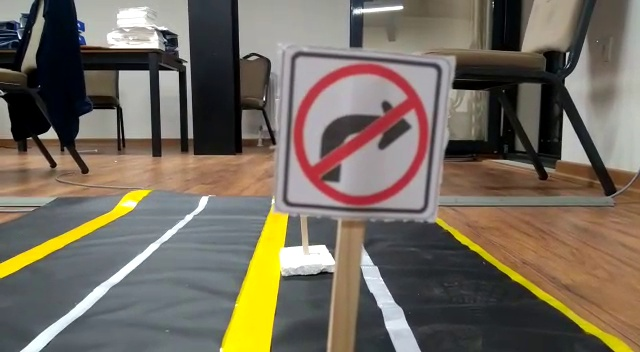saga_donulmez: (291, 52, 431, 214)
